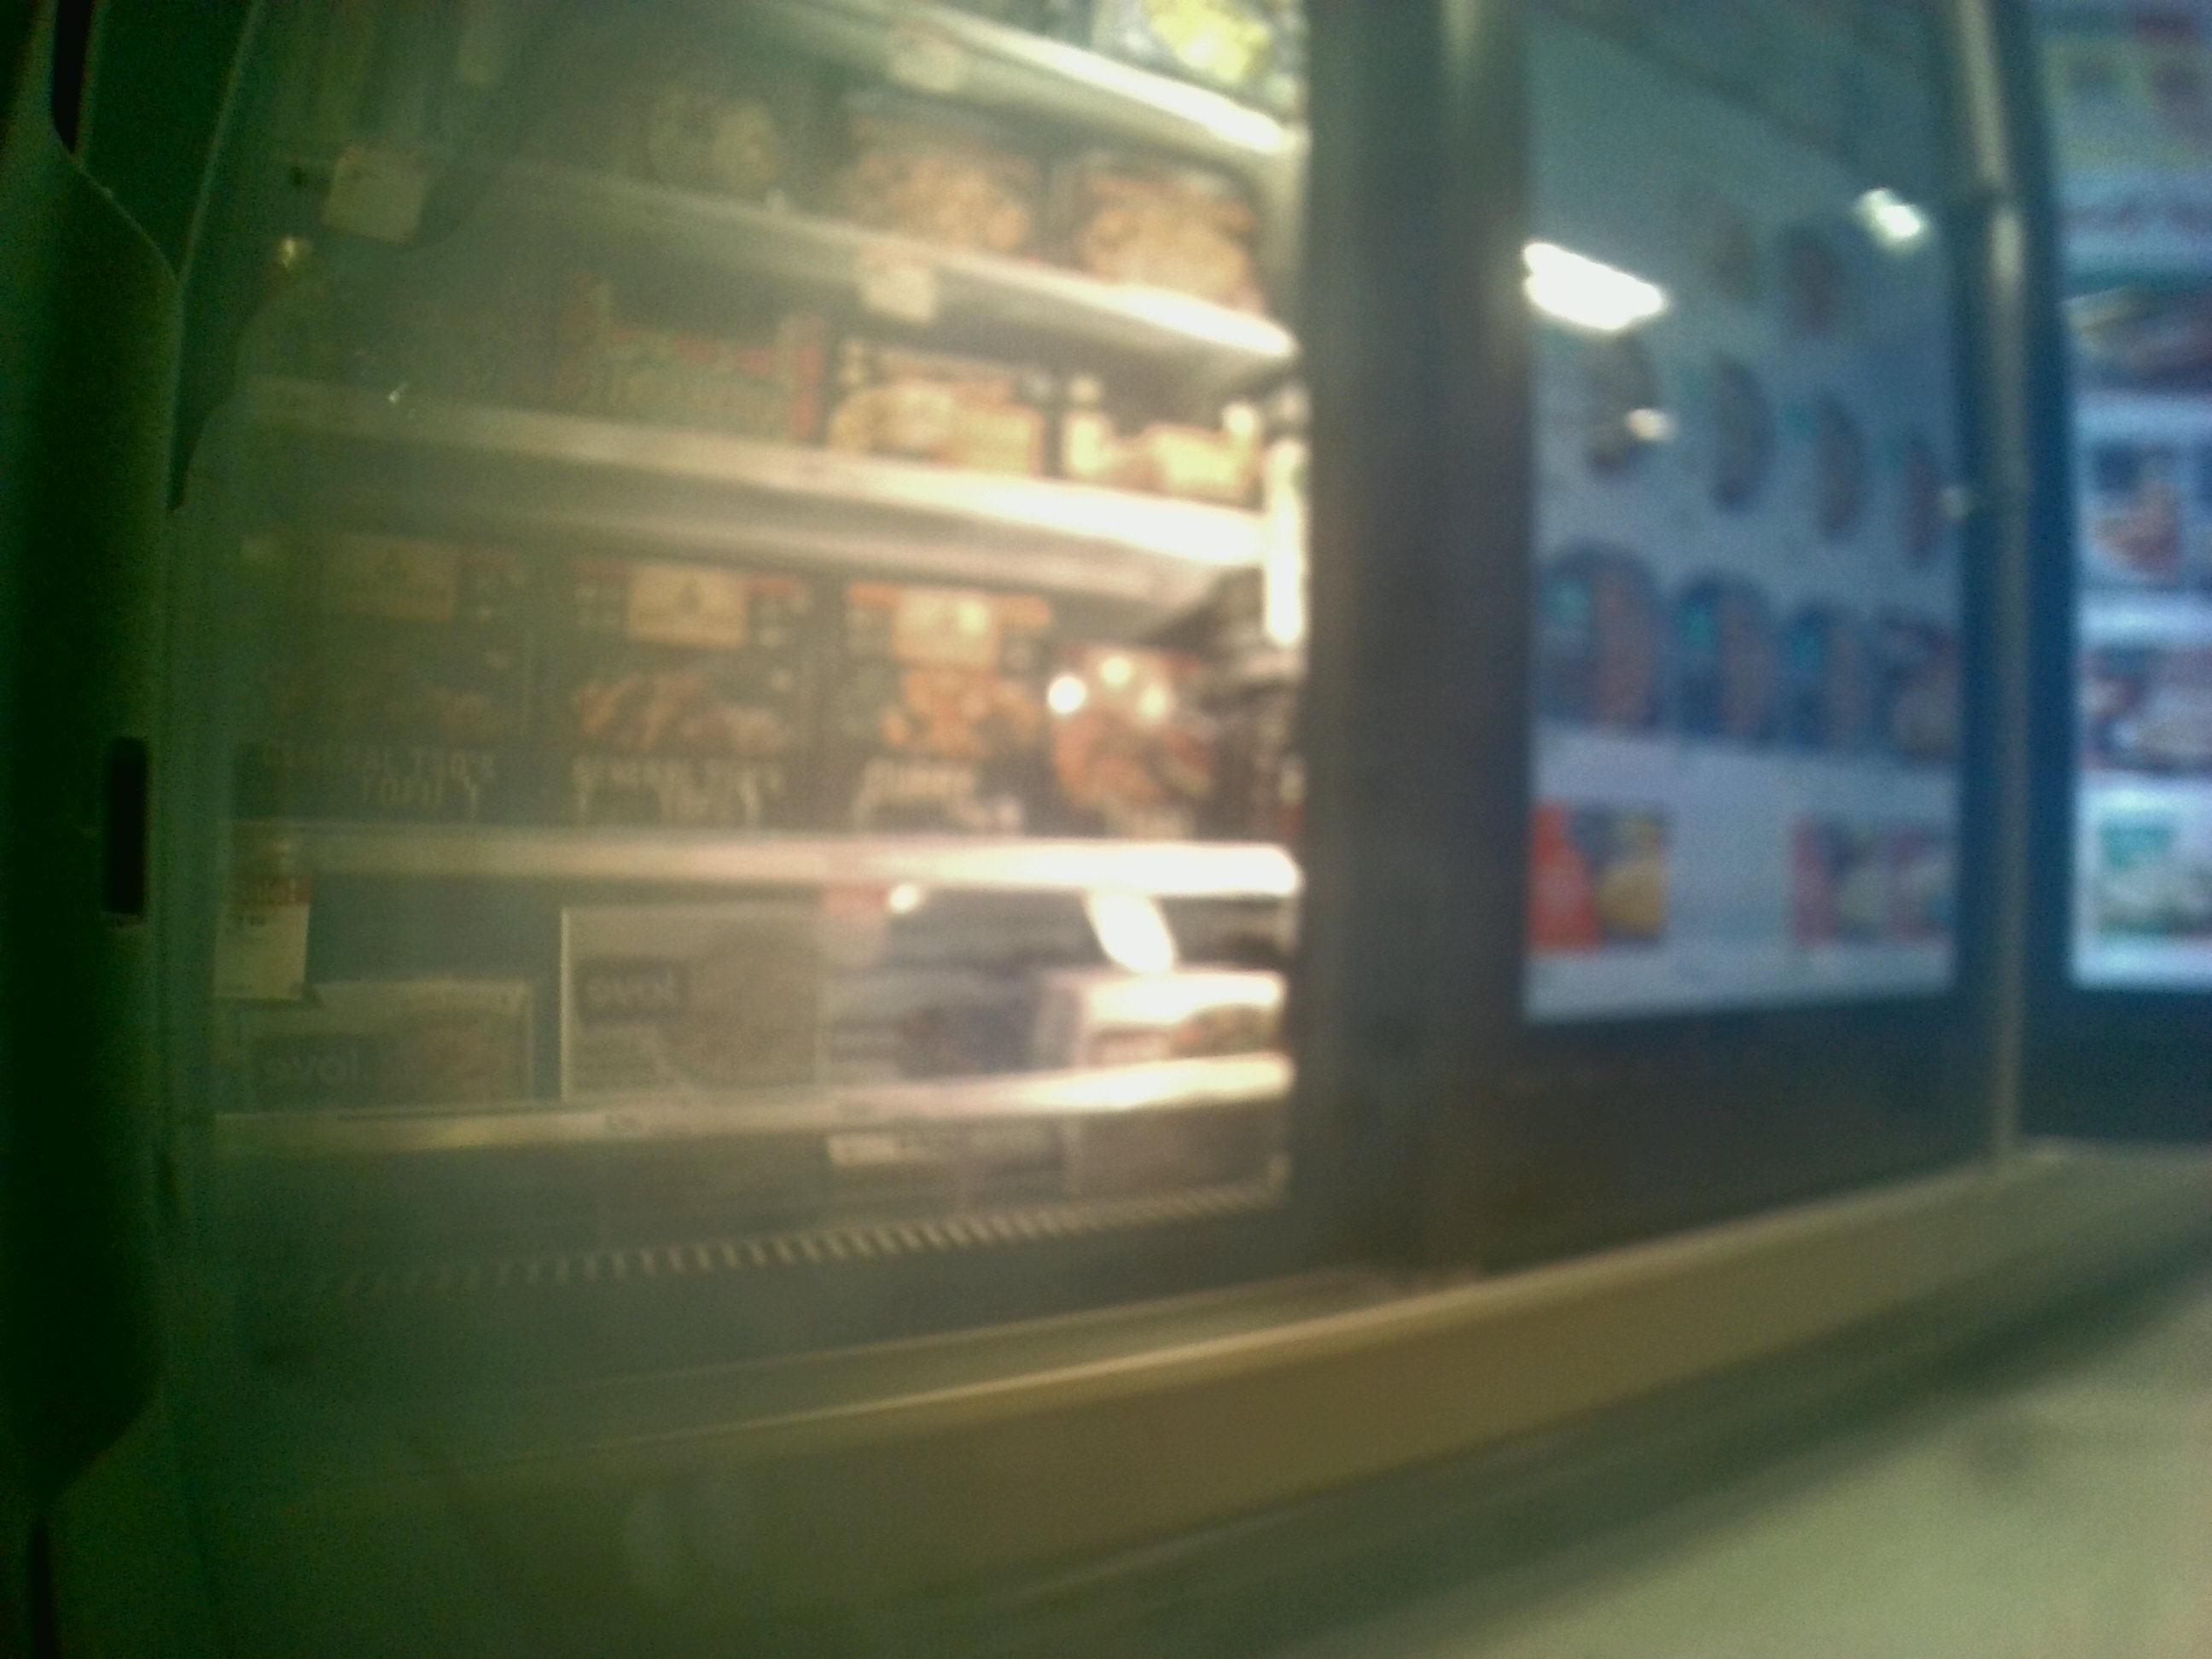frozen-food-shelf: (195, 511, 1315, 899), (195, 899, 1318, 1166)
